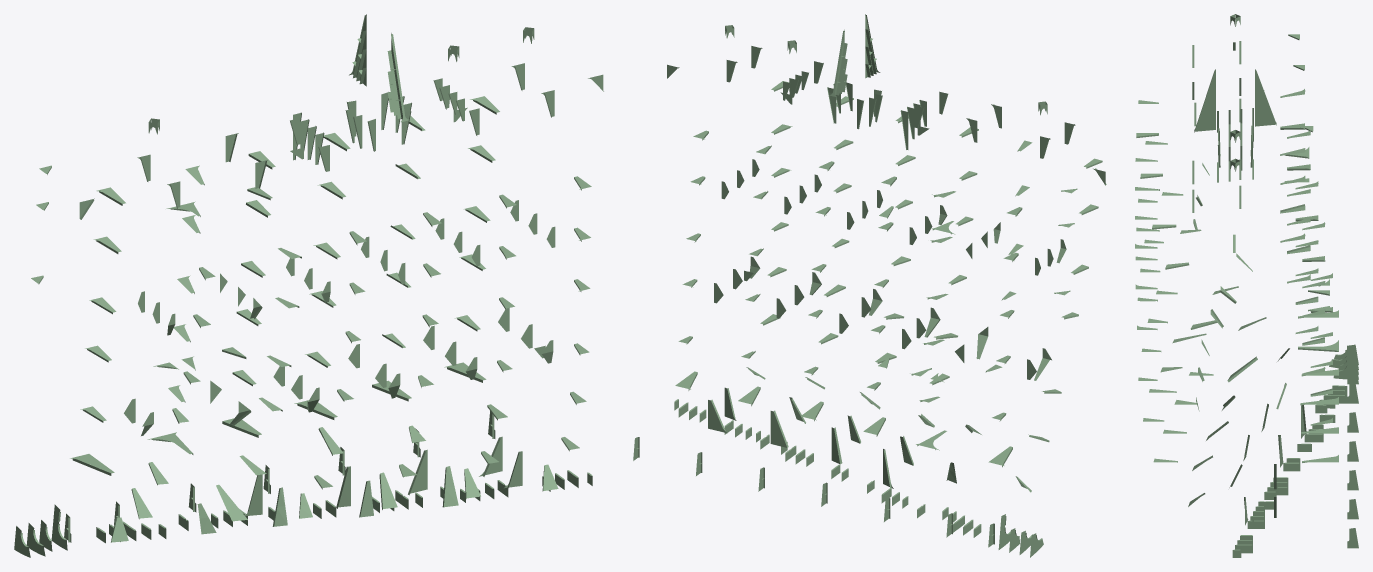
The model's file is NO_5_WING_CARGO_OIL_TK_SB.glb.
The picture shows the model from 3 angles, left to right: view 1: azimuth 30°, elevation 25°; view 2: azimuth 150°, elevation 25°; view 3: azimuth 270°, elevation 25°; orthographic projection. The views are drawn at different scales.
Visible parts, largest first — view 1: no part large enough to name; view 2: no part large enough to name; view 3: PL_CraneSeatBracketxNo5SideTankS_014001-40_NVE36_2014, PL_CraneSeatBracketxNo5SideTankS_012002-40_NVE36_2014.
Boxes of the visible parts, box(x1,y1,x2,y2) form: PL_CraneSeatBracketxNo5SideTankS_014001-40_NVE36_2014: box(1195, 69, 1215, 131); PL_CraneSeatBracketxNo5SideTankS_012002-40_NVE36_2014: box(1260, 81, 1275, 125).
Bounding box in the file's own units: 36.68 × 34.37 × 17.14.
